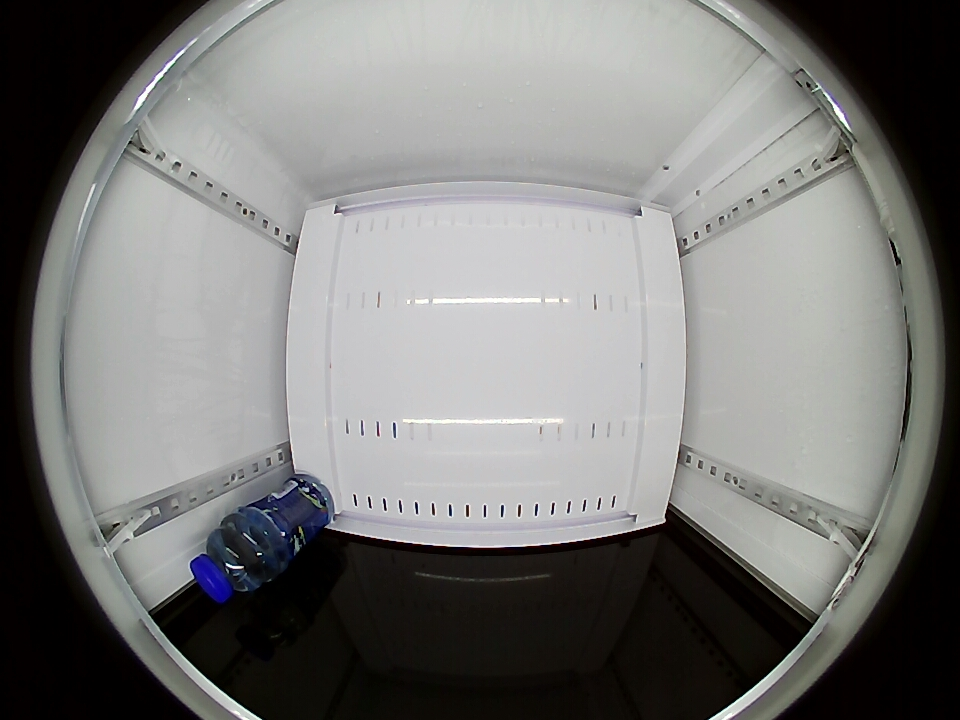maidong: (189, 518, 278, 603)
